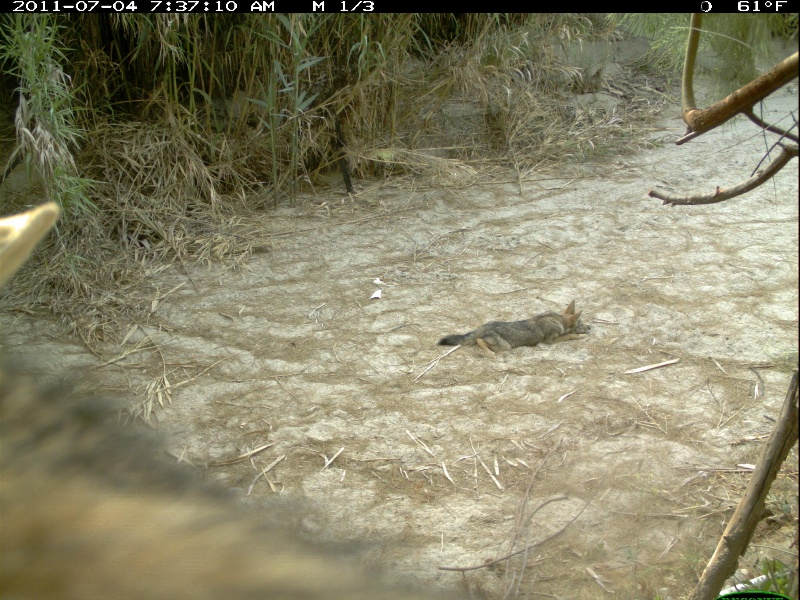coyote: (435, 299, 592, 363)
